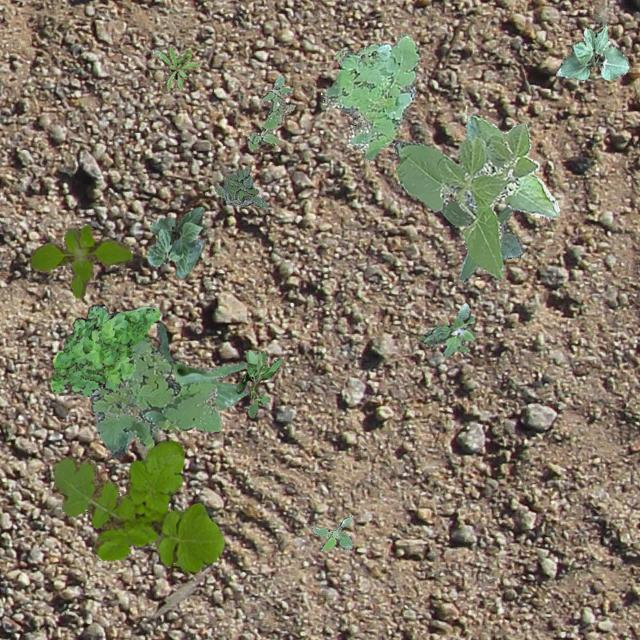crop: (392, 115, 558, 278), (156, 322, 248, 408), (554, 24, 628, 80), (146, 206, 204, 276)
weed: (52, 438, 224, 574), (88, 336, 220, 458), (322, 32, 418, 160), (49, 302, 160, 396), (28, 224, 132, 296), (439, 198, 522, 280), (246, 74, 294, 150), (235, 348, 282, 416), (416, 302, 474, 356), (153, 44, 200, 92), (214, 164, 266, 207), (310, 514, 352, 550)
